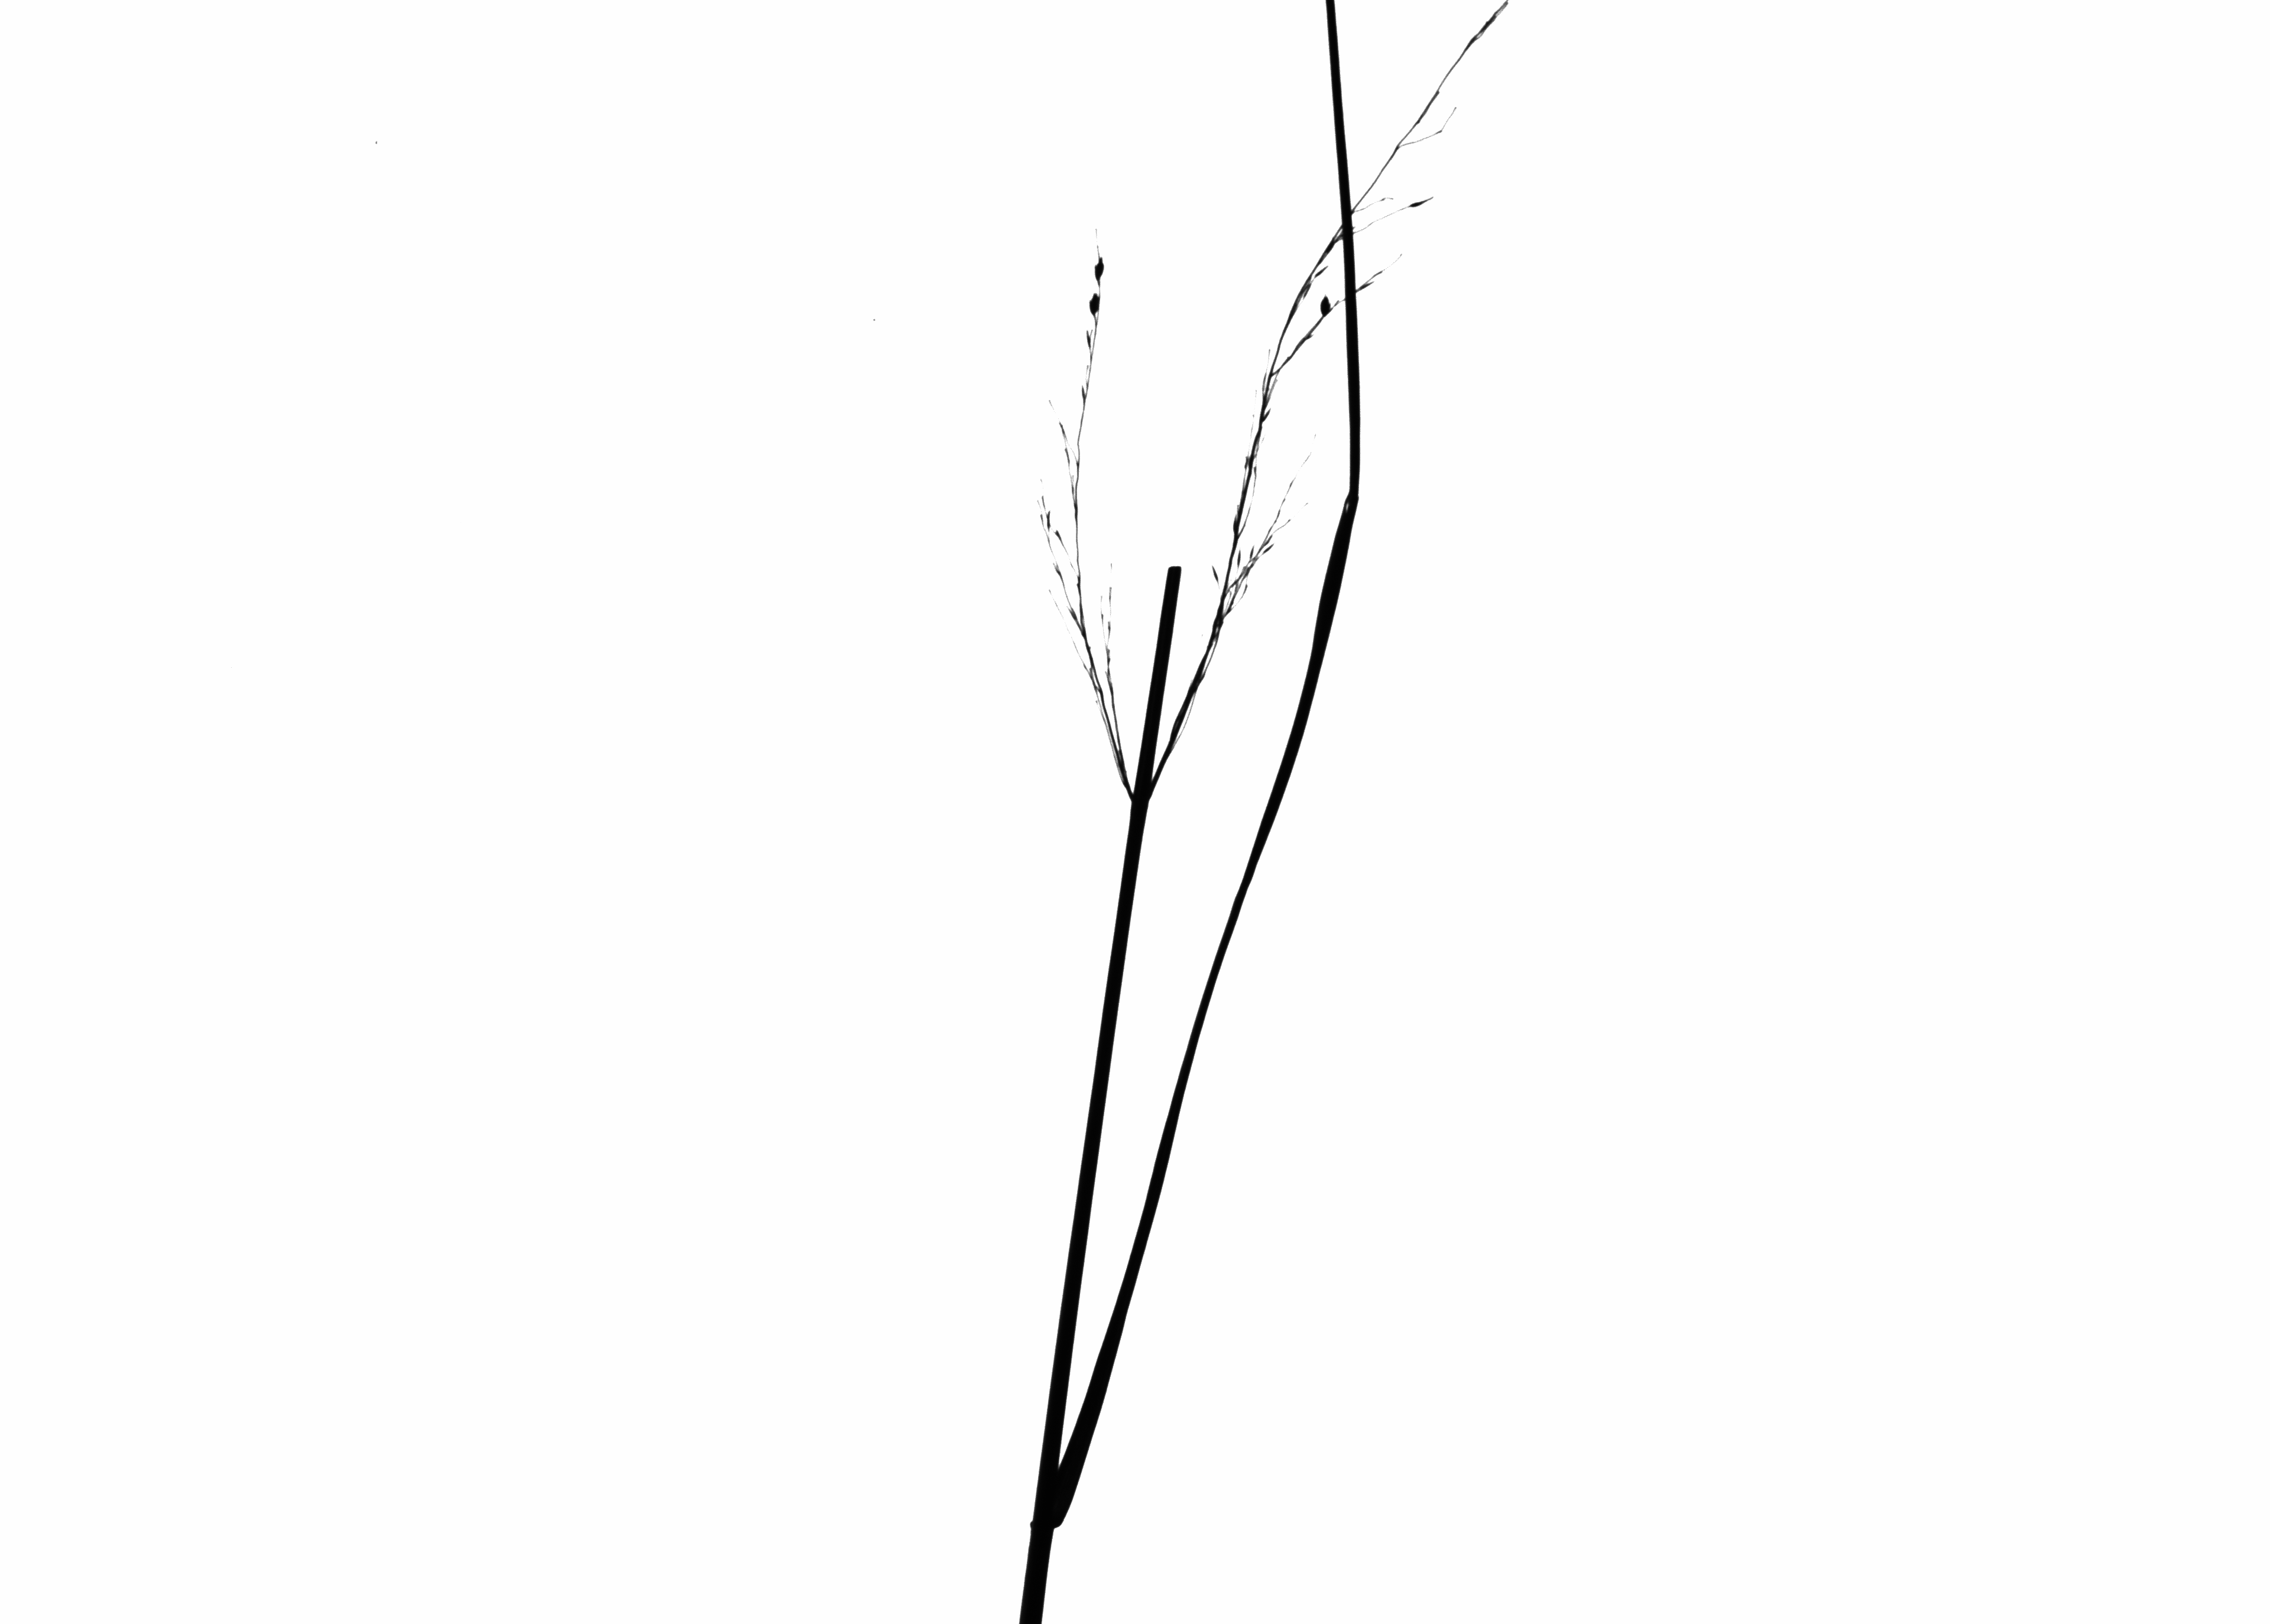seed: (1085, 251, 1113, 283), (1310, 290, 1336, 323), (1078, 290, 1111, 316)
